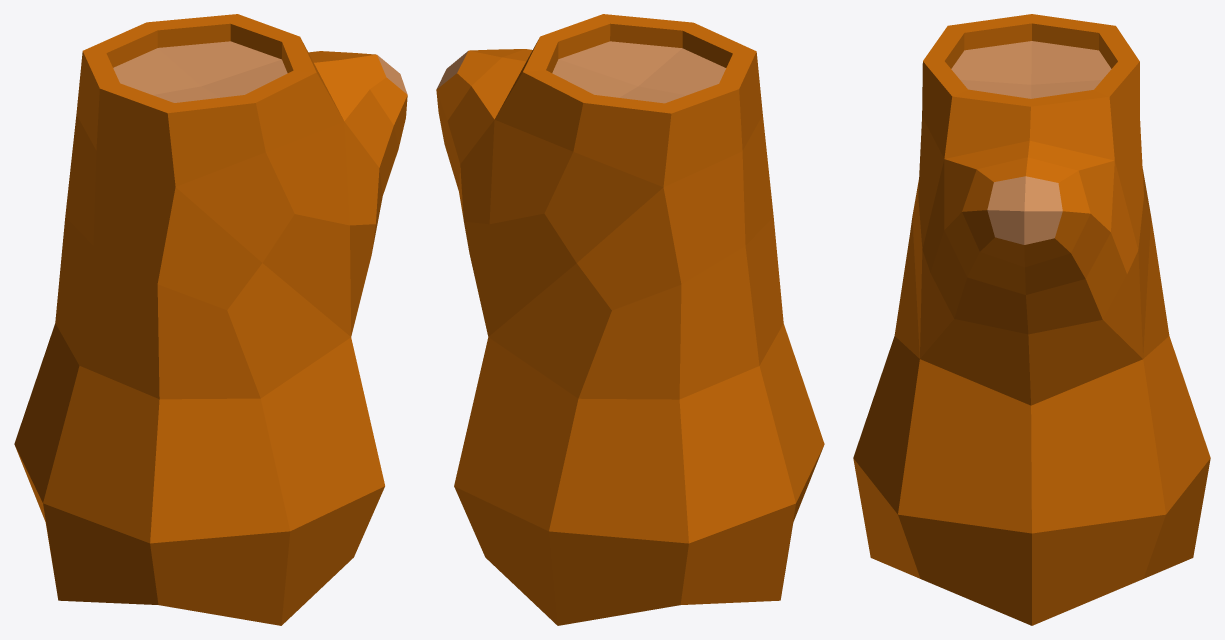
Rendered from Log03.fbx.
3 views of the same model, side by side, from view 1: azimuth 30°, elevation 25°; view 2: azimuth 150°, elevation 25°; view 3: azimuth 270°, elevation 25° (orthographic).
Parts seen in each view (by area): view 1: Plane; view 2: Plane; view 3: Plane.
Part boxes in pixels (<box>): Plane: <box>14,14,407,625</box>; Plane: <box>436,14,824,625</box>; Plane: <box>853,14,1210,625</box>.
Bounding box in the file's own units: 60.96 × 88.34 × 53.76.
